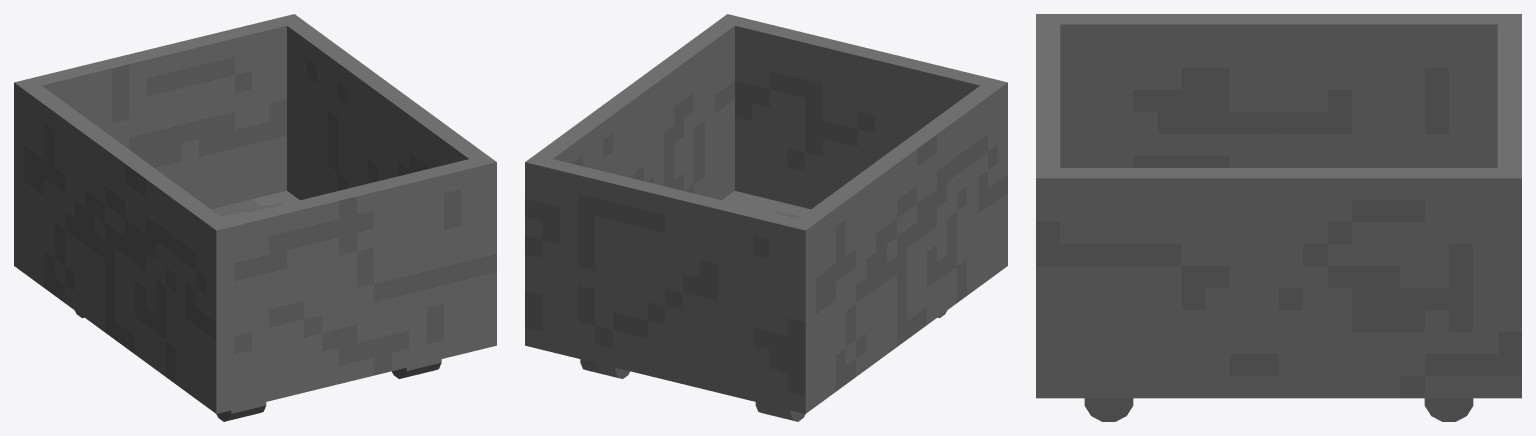
File: simple_minecart.gltf
The picture shows the model from 3 angles, left to right: view 1: azimuth 30°, elevation 25°; view 2: azimuth 150°, elevation 25°; view 3: azimuth 270°, elevation 25°; orthographic projection. The views are drawn at different scales.
Parts seen in each view (by area): view 1: cylinder; view 2: cylinder; view 3: cylinder.
Part boxes in pixels (bbox=[...]): cylinder: bbox=[14, 14, 496, 421]; cylinder: bbox=[525, 14, 1007, 421]; cylinder: bbox=[1036, 14, 1521, 421].
Size of the model in its own units: 10 by 7.5 by 12.5.
1 material, 1 textured.
